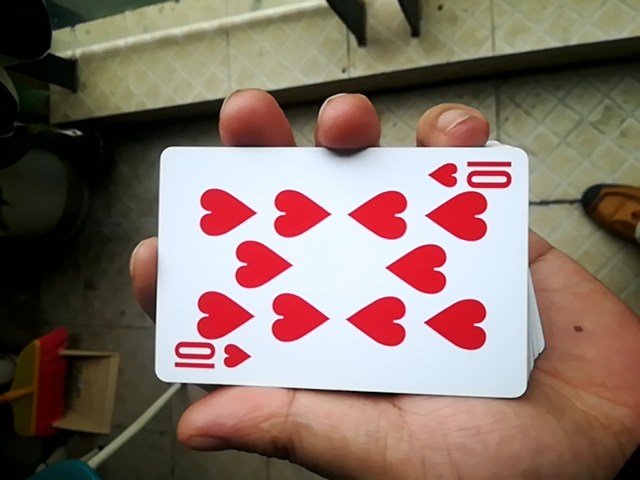hx 10: (137, 147, 529, 401)
